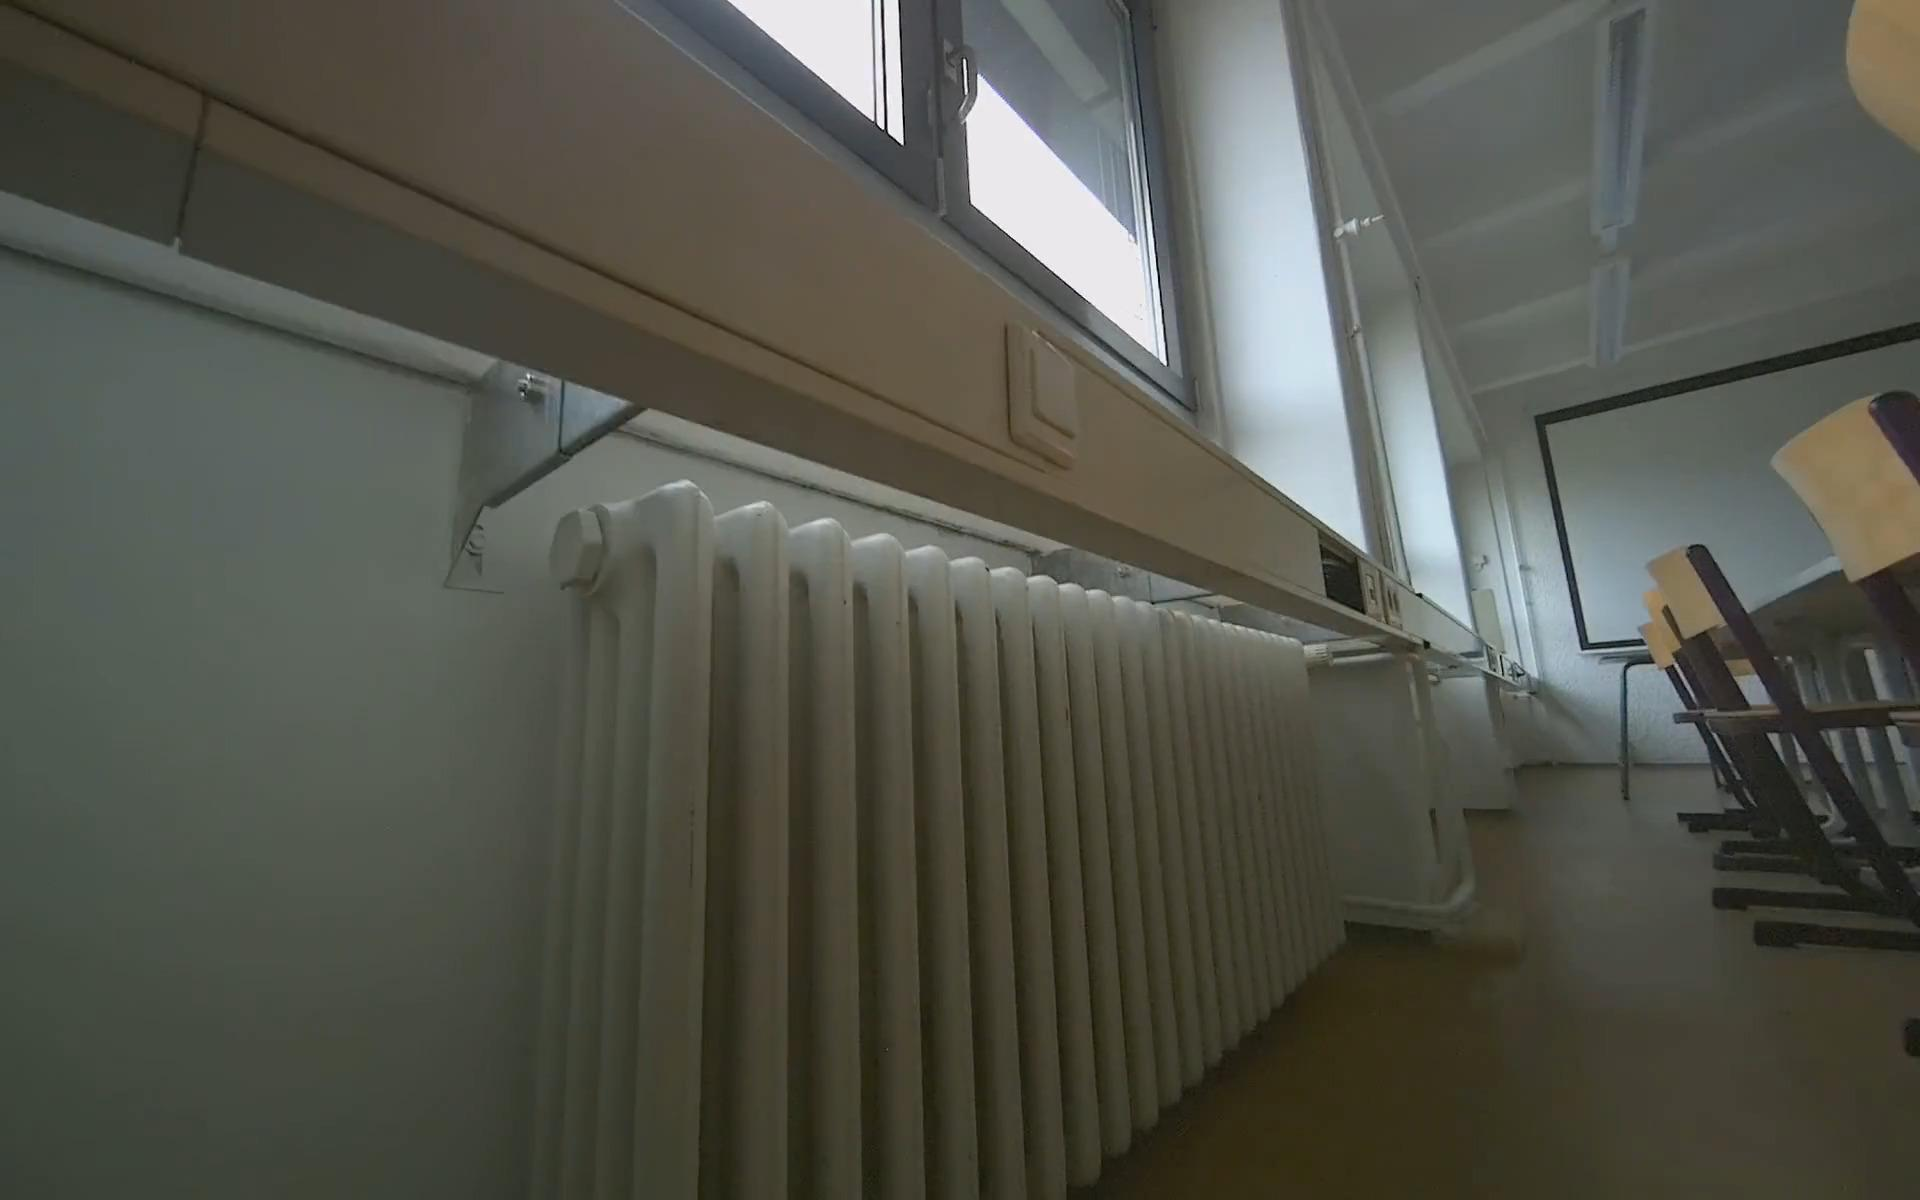chair: (1653, 538, 1920, 977), (1776, 385, 1920, 1090), (1843, 0, 1920, 1168), (1638, 598, 1866, 875), (1630, 617, 1816, 838)
light: (1588, 0, 1648, 243), (1587, 252, 1633, 375)
radiator: (532, 482, 1352, 1200)
window: (542, 0, 1215, 430)
